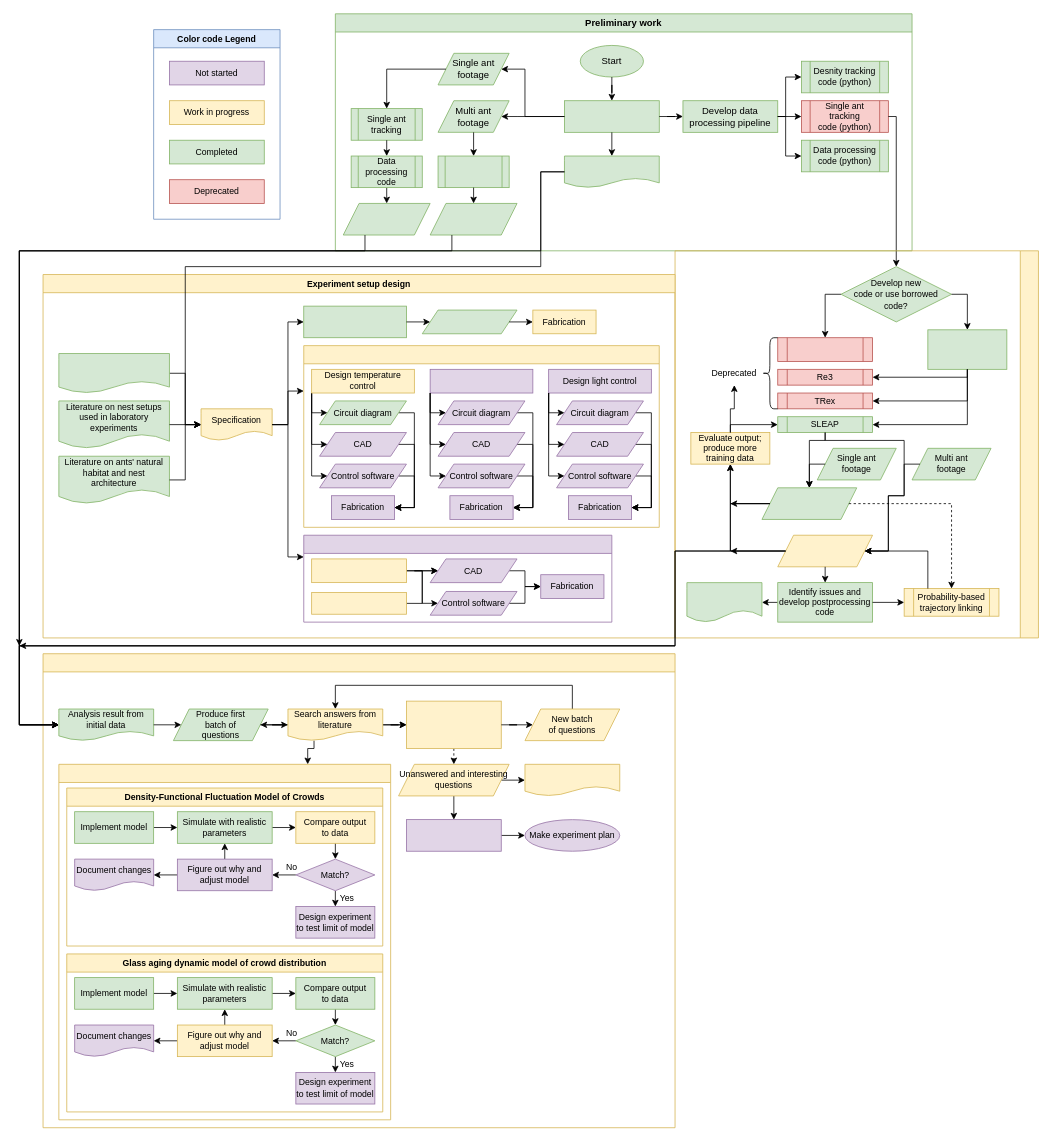
The diagram is 1052 pixels wide and 1142 high, and some of its shapes have lost their labels. The shapes that lost their labels are listed below. From the top down, each one's box as (x1, y1, x2, y2) in pixels, then its label:
(564, 100, 659, 132): Preliminary experiment
(437, 155, 509, 188): Desnity tracking code
(564, 155, 659, 188): Directions for future improvements
(342, 203, 430, 235): Single ant trajectories
(429, 203, 517, 235): Multi ant densities
(303, 305, 406, 338): Develop design for nest
(421, 309, 517, 334): Nest design CAD
(777, 337, 873, 361): Improved tracking code
(927, 329, 1007, 369): Search for well developed alternatives
(58, 353, 169, 393): Imaging requirements
(429, 369, 533, 393): Design humidity control
(303, 345, 659, 527): Design environmental control
(674, 250, 1038, 638): Tracking development
(761, 487, 857, 519): SLEAP-tracked single trajectories
(311, 558, 406, 583): Select camera
(777, 534, 873, 567): SLEAP-tracked multi trajectories
(303, 534, 612, 622): Design imaging setup
(311, 592, 406, 614): Select lighting
(686, 582, 762, 622): Compile imaging related issues
(406, 700, 501, 749): Integrate new knowledge and refine remaining questions
(524, 764, 620, 796): Document current extent of knowledge
(406, 819, 501, 851): Come up with testable predictions
(42, 653, 675, 1128): Question building/experiment planning
(58, 764, 391, 1120): Find documented mathematical models of behavior
